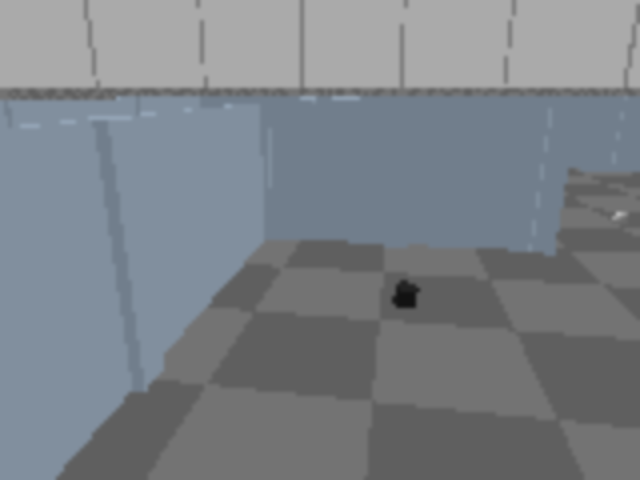puck: (394, 282, 418, 309), (608, 209, 633, 228)
